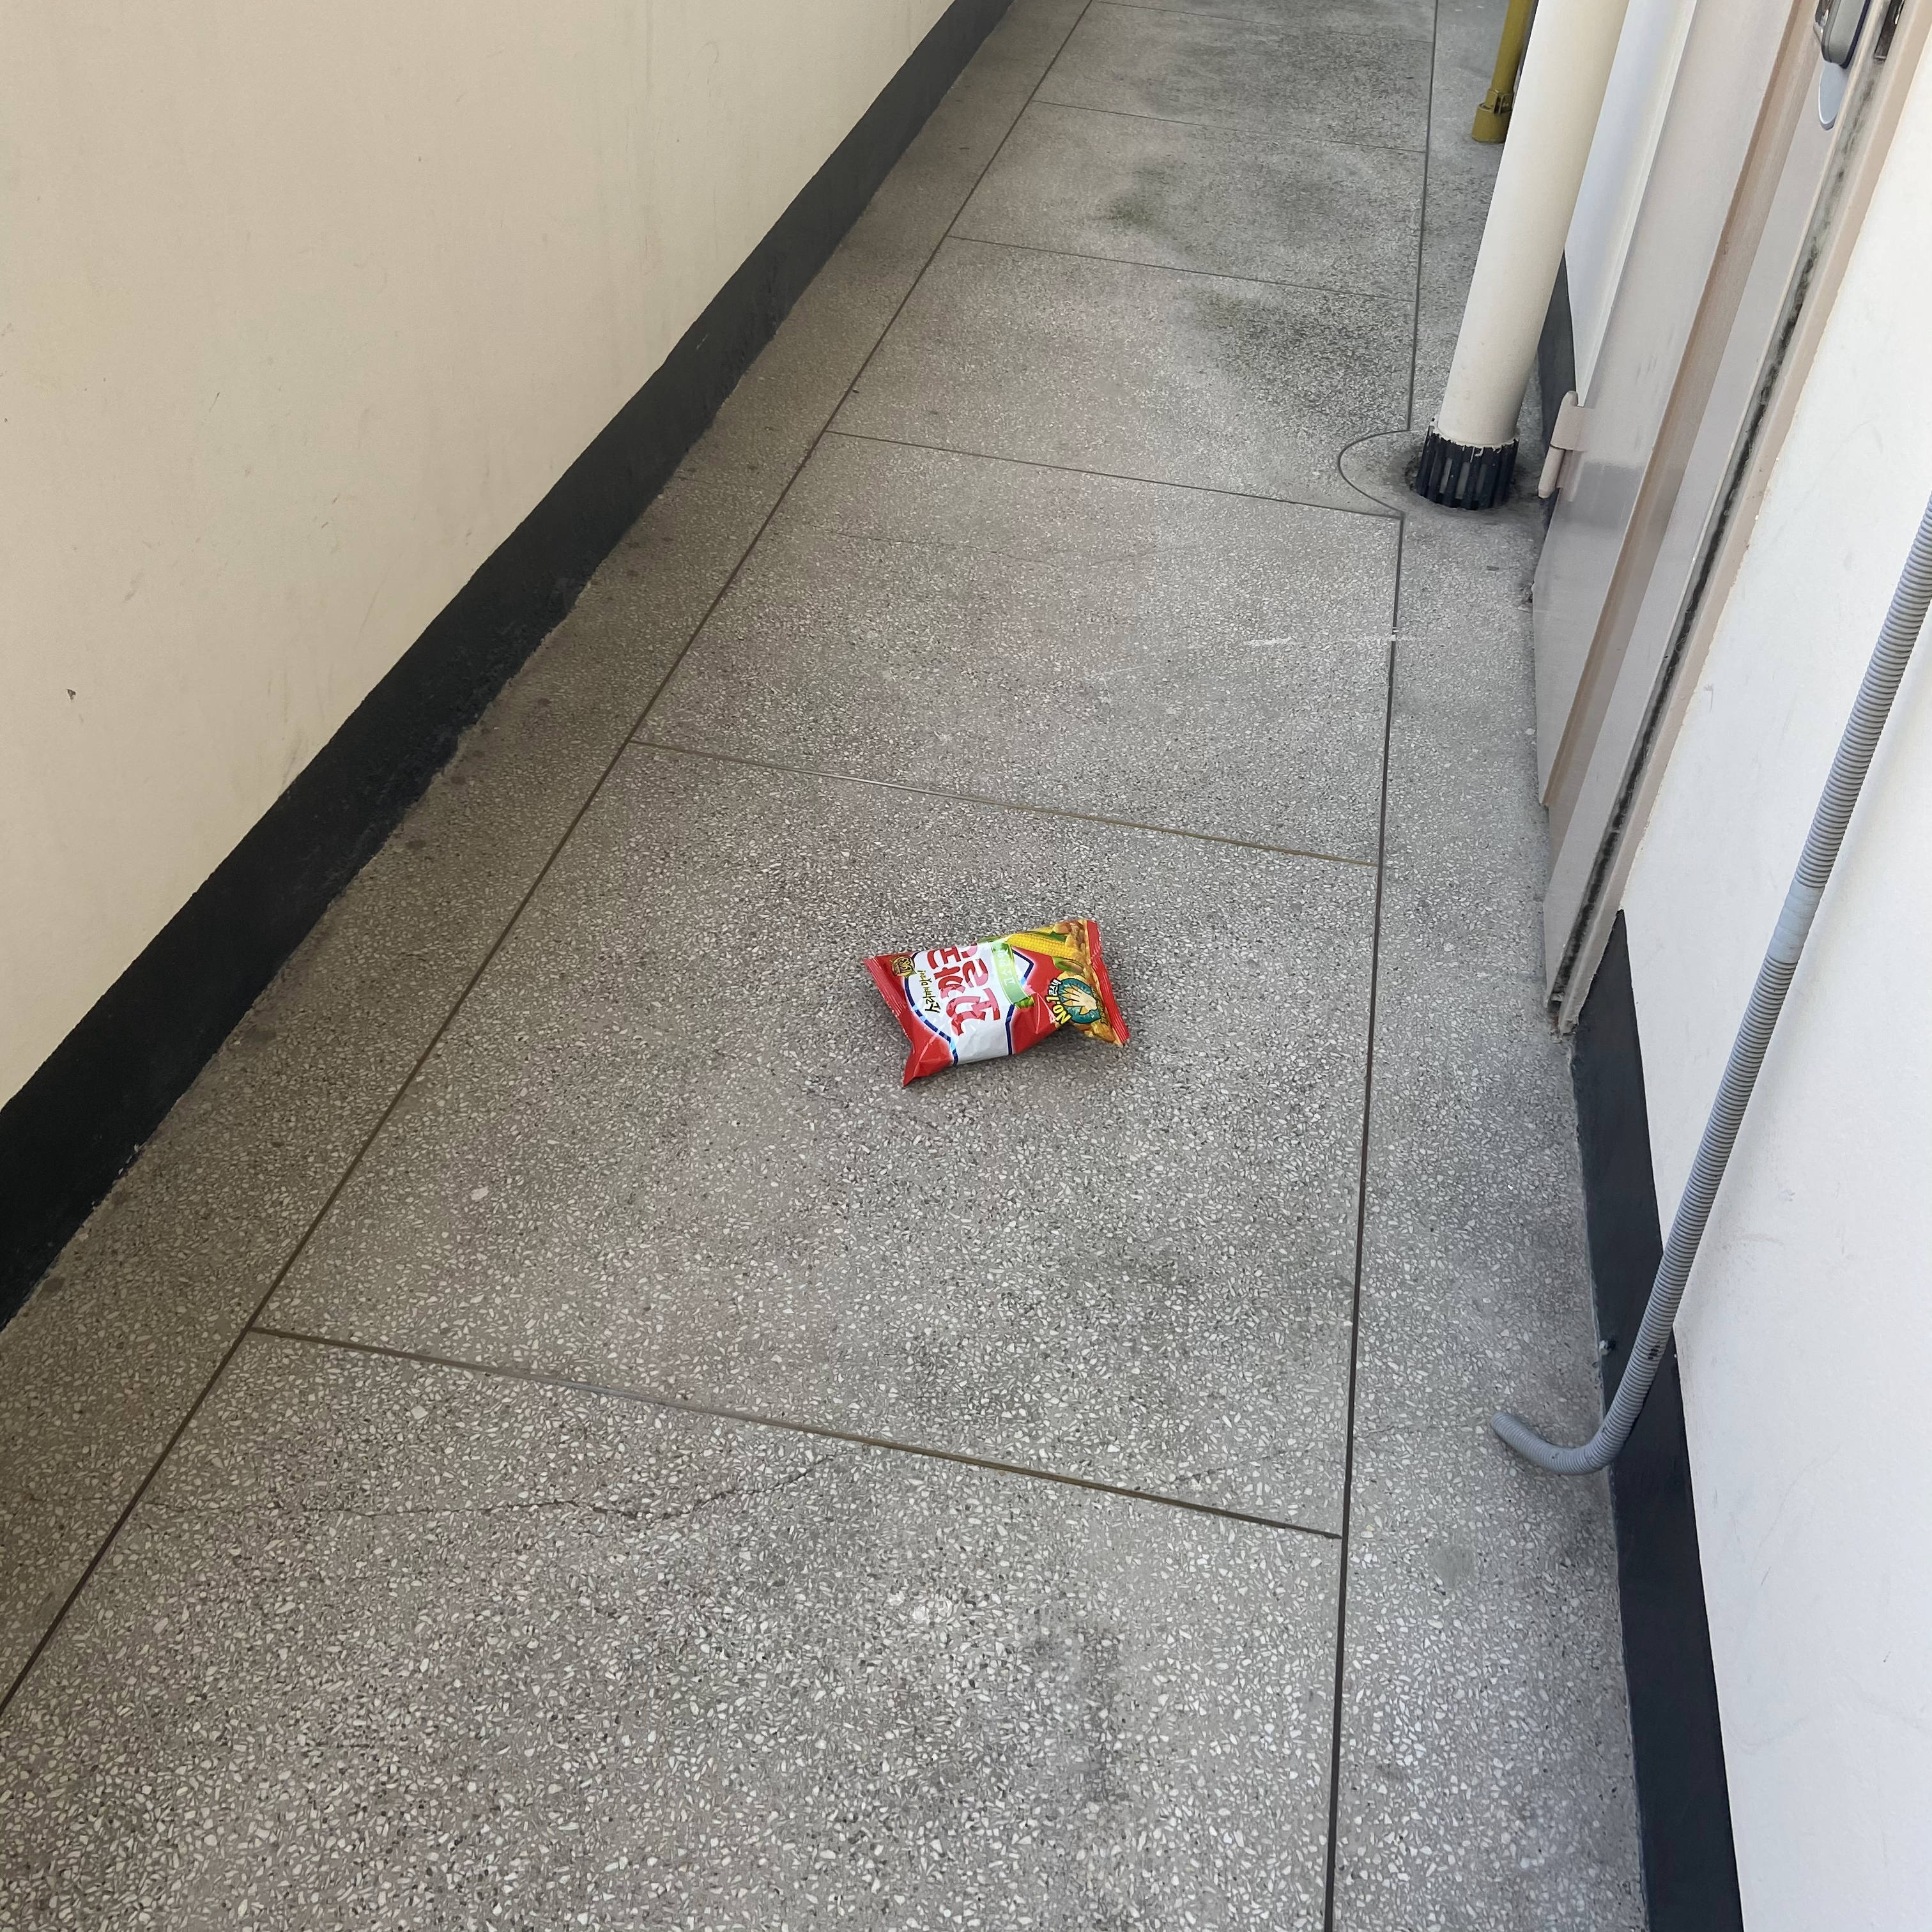ggoggalcon: (855, 911, 1136, 1086)
